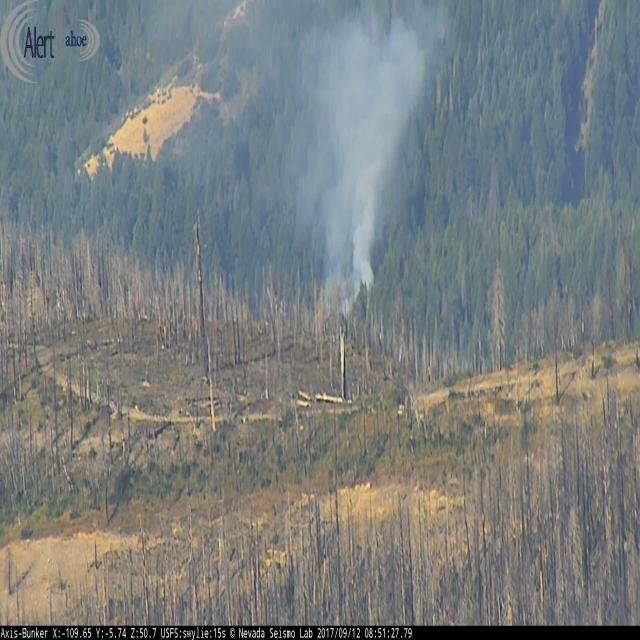smoke: (280, 0, 424, 315)
